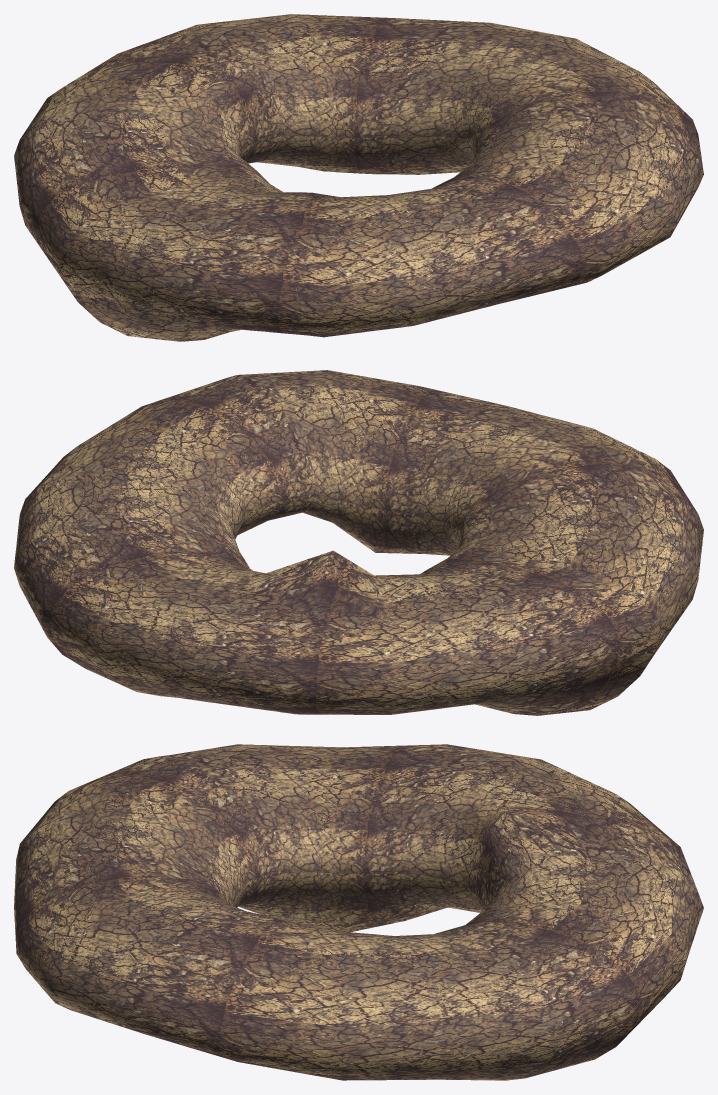
Rendered from dirt.fbx.
The picture shows the model from 3 angles, top to bottom: view 1: azimuth 30°, elevation 25°; view 2: azimuth 150°, elevation 25°; view 3: azimuth 270°, elevation 25°; orthographic projection. The views are drawn at different scales.
Parts seen in each view (by area): view 1: pTorus1; view 2: pTorus1; view 3: pTorus1.
Part boxes in pixels (left/top/right/bottom): pTorus1: left=14, top=14, right=703, bottom=341; pTorus1: left=14, top=370, right=703, bottom=715; pTorus1: left=14, top=744, right=703, bottom=1080.
Bounding box in the file's own units: 202 × 58.8 × 193.
Materials: 1 (1 with a texture image).
